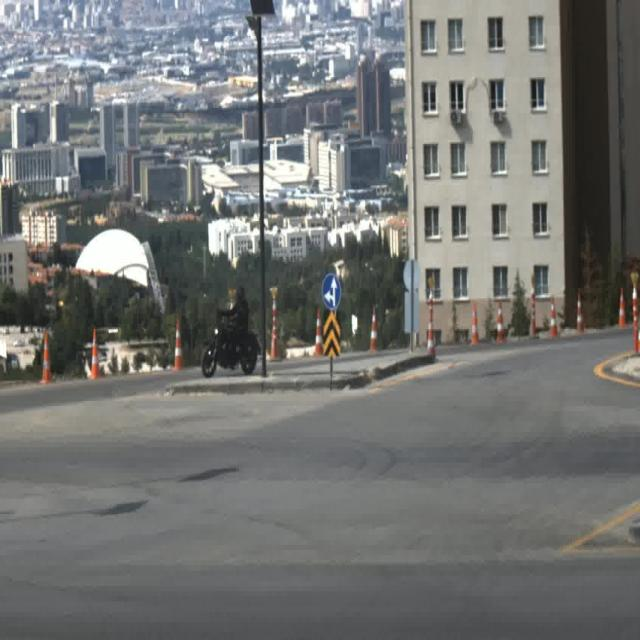Motorcycle: (202, 286, 258, 376)
